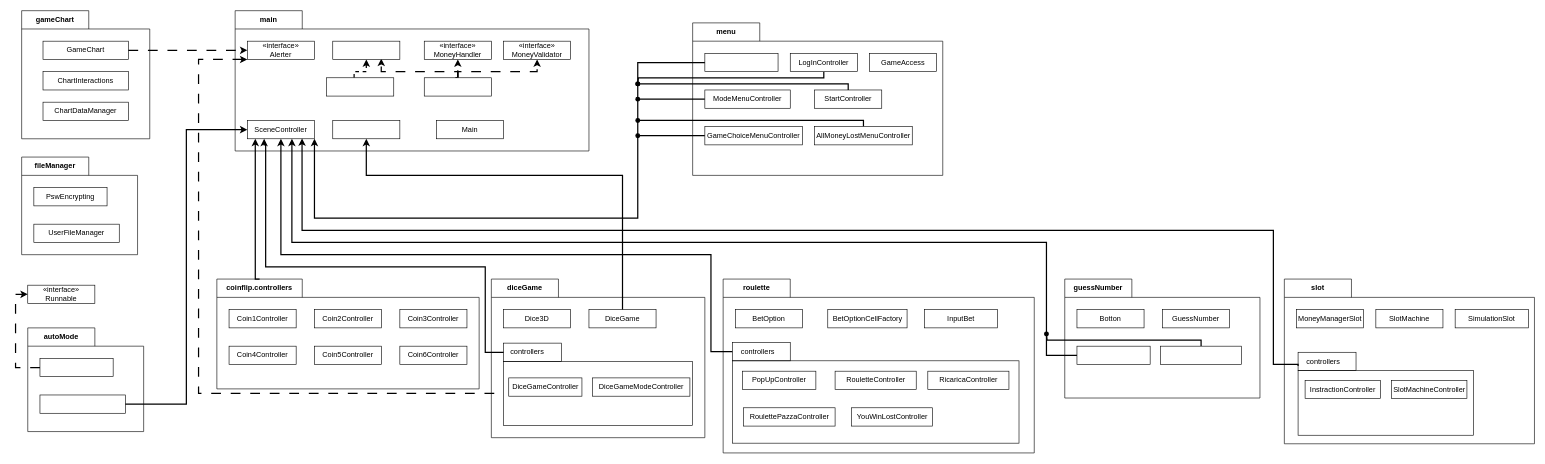
The diagram is 1545 pixels wide and 464 high, and some of its shapes have lost their labels. Each missing label, with the centre of its shape:
"AutoMode implements Runnable" belongs at (x=76, y=367).
"AutoModeController" belongs at (x=82, y=403).
"Bot" belongs at (x=360, y=86).
"GameController" belongs at (x=1201, y=355).
"InitialController" belongs at (x=1113, y=355).
"Player" belongs at (x=457, y=86).
"SignInController" belongs at (x=741, y=62).
"«abstract» Game" belongs at (x=366, y=129).
"«interface» Entity" belongs at (x=366, y=50).
